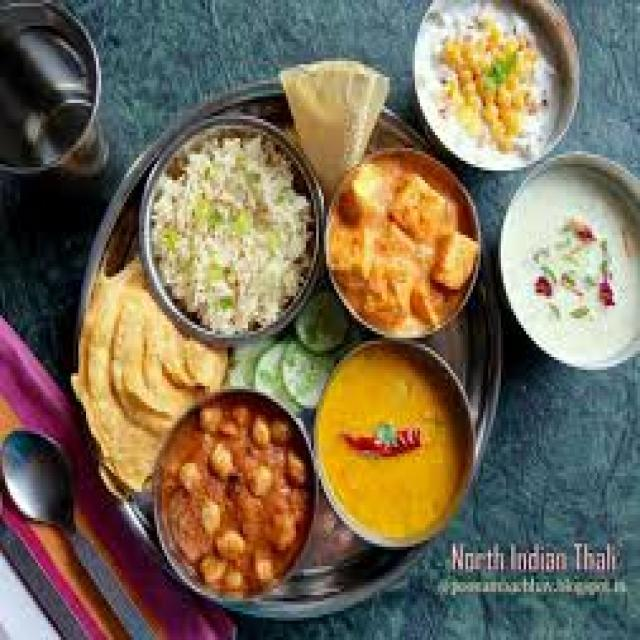dal: (316, 343, 479, 548)
rice: (142, 120, 319, 334)
roti: (68, 266, 212, 492)
sweet: (493, 147, 640, 377)
veg-fry: (405, 4, 585, 172)
